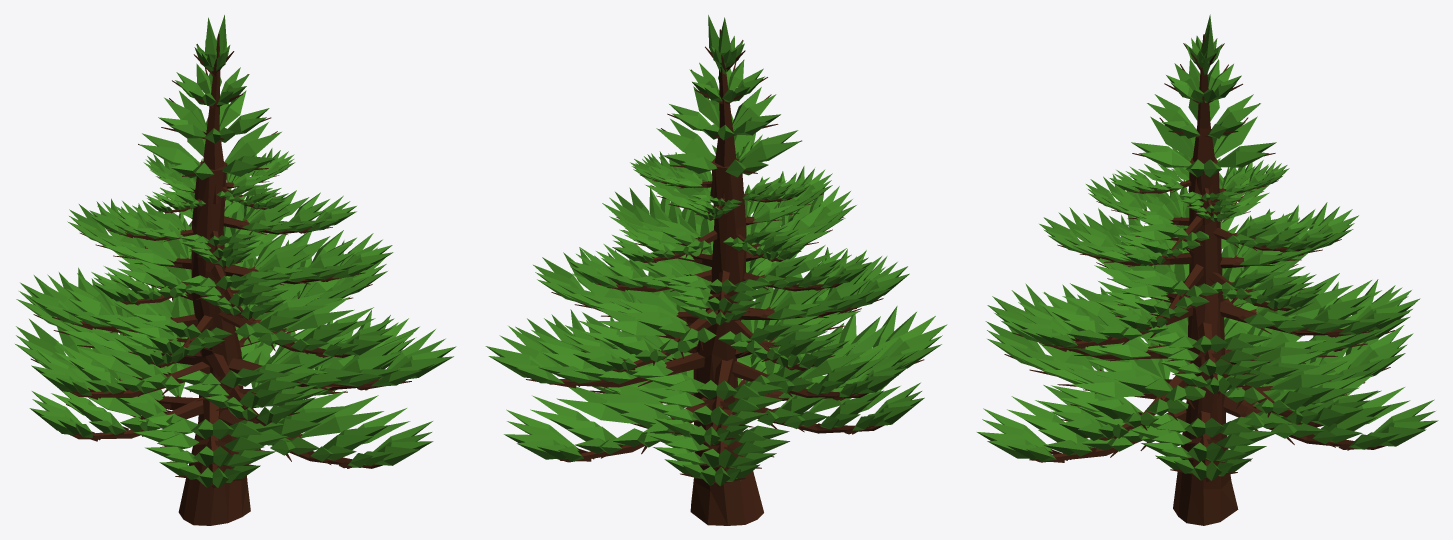
The model's file is GR_Tree_Pine_LOD1.fbx.
3 views of the same model, side by side, from view 1: azimuth 30°, elevation 25°; view 2: azimuth 150°, elevation 25°; view 3: azimuth 270°, elevation 25° (orthographic).
Visible parts, largest first — view 1: GR_Tree_Pine_LOD1; view 2: GR_Tree_Pine_LOD1; view 3: GR_Tree_Pine_LOD1.
Boxes of the visible parts, x1,y1,x2,y2 form: GR_Tree_Pine_LOD1: (15,15,456,525); GR_Tree_Pine_LOD1: (485,15,947,525); GR_Tree_Pine_LOD1: (977,14,1438,525).
Bounding box in the file's own units: 2.51 × 3.04 × 2.58.
2 materials, 2 textured.
